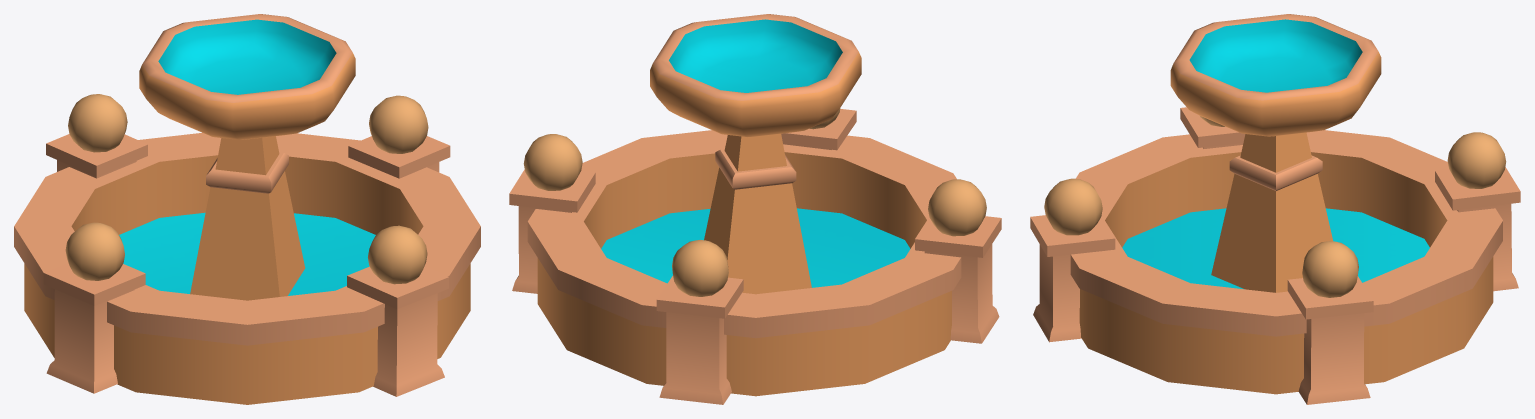
Rendered from Fountain.fbx.
3 renders of one model, left to right at view 1: azimuth 30°, elevation 25°; view 2: azimuth 150°, elevation 25°; view 3: azimuth 270°, elevation 25°, orthographic. The views are drawn at different scales.
Visible parts, largest first — view 1: fuente_01_low; view 2: fuente_01_low; view 3: fuente_01_low.
Part boxes in pixels (x1=…): fuente_01_low: x1=14, y1=14, x2=480, y2=404; fuente_01_low: x1=509, y1=14, x2=1001, y2=404; fuente_01_low: x1=1030, y1=14, x2=1520, y2=404.
Bounding box in the file's own units: 13208 × 7414 × 13221.
